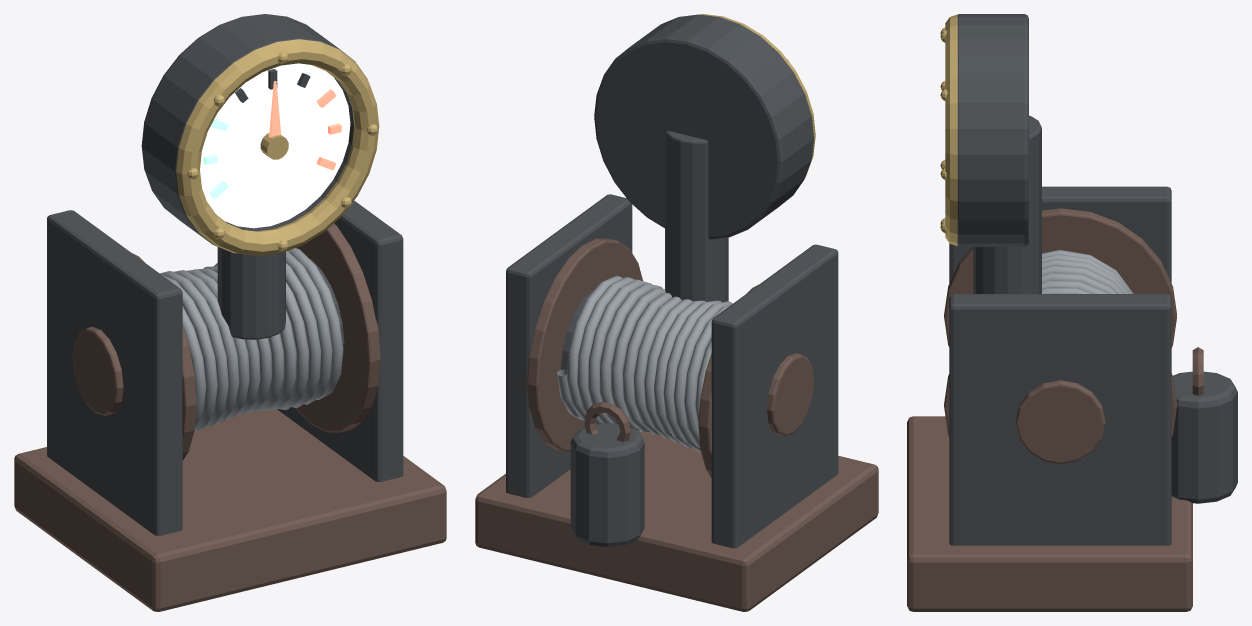
The model's file is winch_tension_rig.glb.
The picture shows the model from 3 angles, left to right: view 1: azimuth 30°, elevation 25°; view 2: azimuth 150°, elevation 25°; view 3: azimuth 270°, elevation 25°; orthographic projection. The views are drawn at different scales.
Visible parts, largest first — view 1: WinchHousing, WinchSpool, GaugeNeedle; view 2: WinchHousing, WinchSpool, TrawlWeight; view 3: WinchHousing, WinchSpool, TrawlWeight.
Part boxes in pixels (bbox=[...]): WinchHousing: bbox=[14, 14, 446, 611]; WinchSpool: bbox=[132, 223, 380, 460]; GaugeNeedle: bbox=[260, 81, 288, 159]; WinchHousing: bbox=[475, 14, 878, 611]; WinchSpool: bbox=[527, 238, 757, 477]; TrawlWeight: bbox=[570, 402, 644, 546]; WinchHousing: bbox=[907, 14, 1192, 611]; WinchSpool: bbox=[944, 208, 1176, 436]; TrawlWeight: bbox=[1171, 347, 1237, 503].
Bounding box in the file's own units: 0.64 × 1.08 × 0.625.
